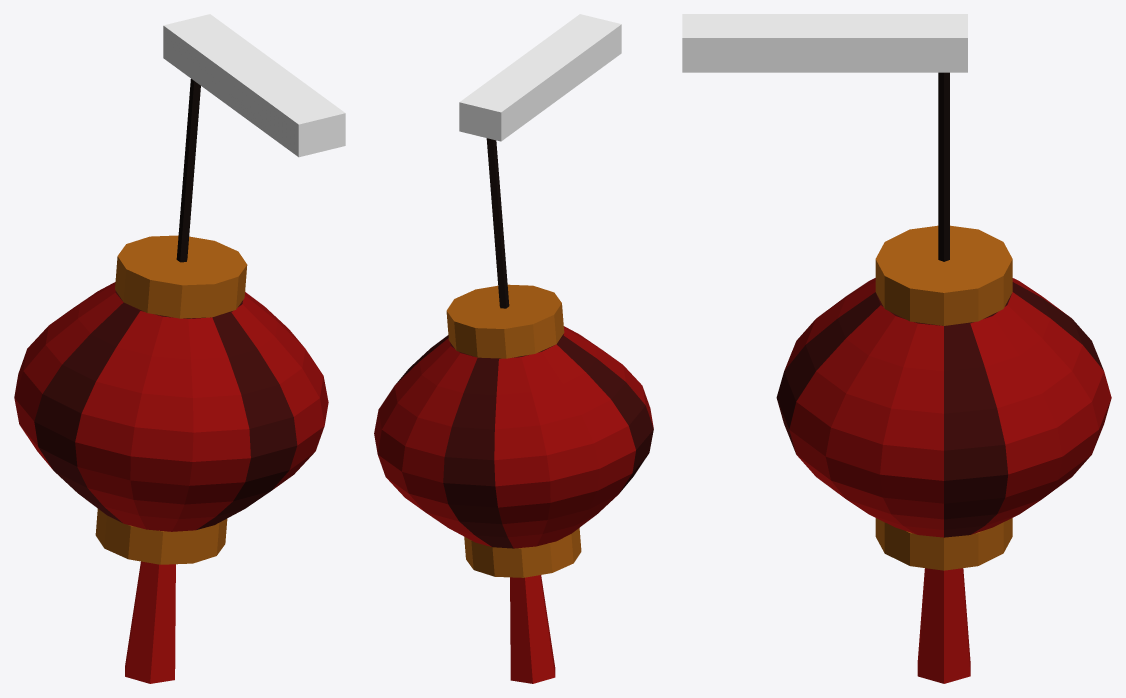
The model's file is ENV_LanternHanging.fbx.
The picture shows the model from 3 angles, left to right: view 1: azimuth 30°, elevation 25°; view 2: azimuth 150°, elevation 25°; view 3: azimuth 270°, elevation 25°; orthographic projection. The views are drawn at different scales.
Parts seen in each view (by area): view 1: ENV_LanternHanging_L_Mesh, ENV_LanternHanging_Bracket; view 2: ENV_LanternHanging_L_Mesh, ENV_LanternHanging_Bracket; view 3: ENV_LanternHanging_L_Mesh, ENV_LanternHanging_Bracket.
Boxes of the visible parts, x1=… form: ENV_LanternHanging_L_Mesh: x1=14, y1=79, x2=328, y2=683; ENV_LanternHanging_Bracket: x1=163, y1=14, x2=345, y2=157; ENV_LanternHanging_L_Mesh: x1=374, y1=138, x2=653, y2=683; ENV_LanternHanging_Bracket: x1=459, y1=14, x2=621, y2=141; ENV_LanternHanging_L_Mesh: x1=776, y1=72, x2=1111, y2=683; ENV_LanternHanging_Bracket: x1=682, y1=14, x2=967, y2=72.
Size of the model in its own units: 0.7016 by 1.55 by 0.902.
